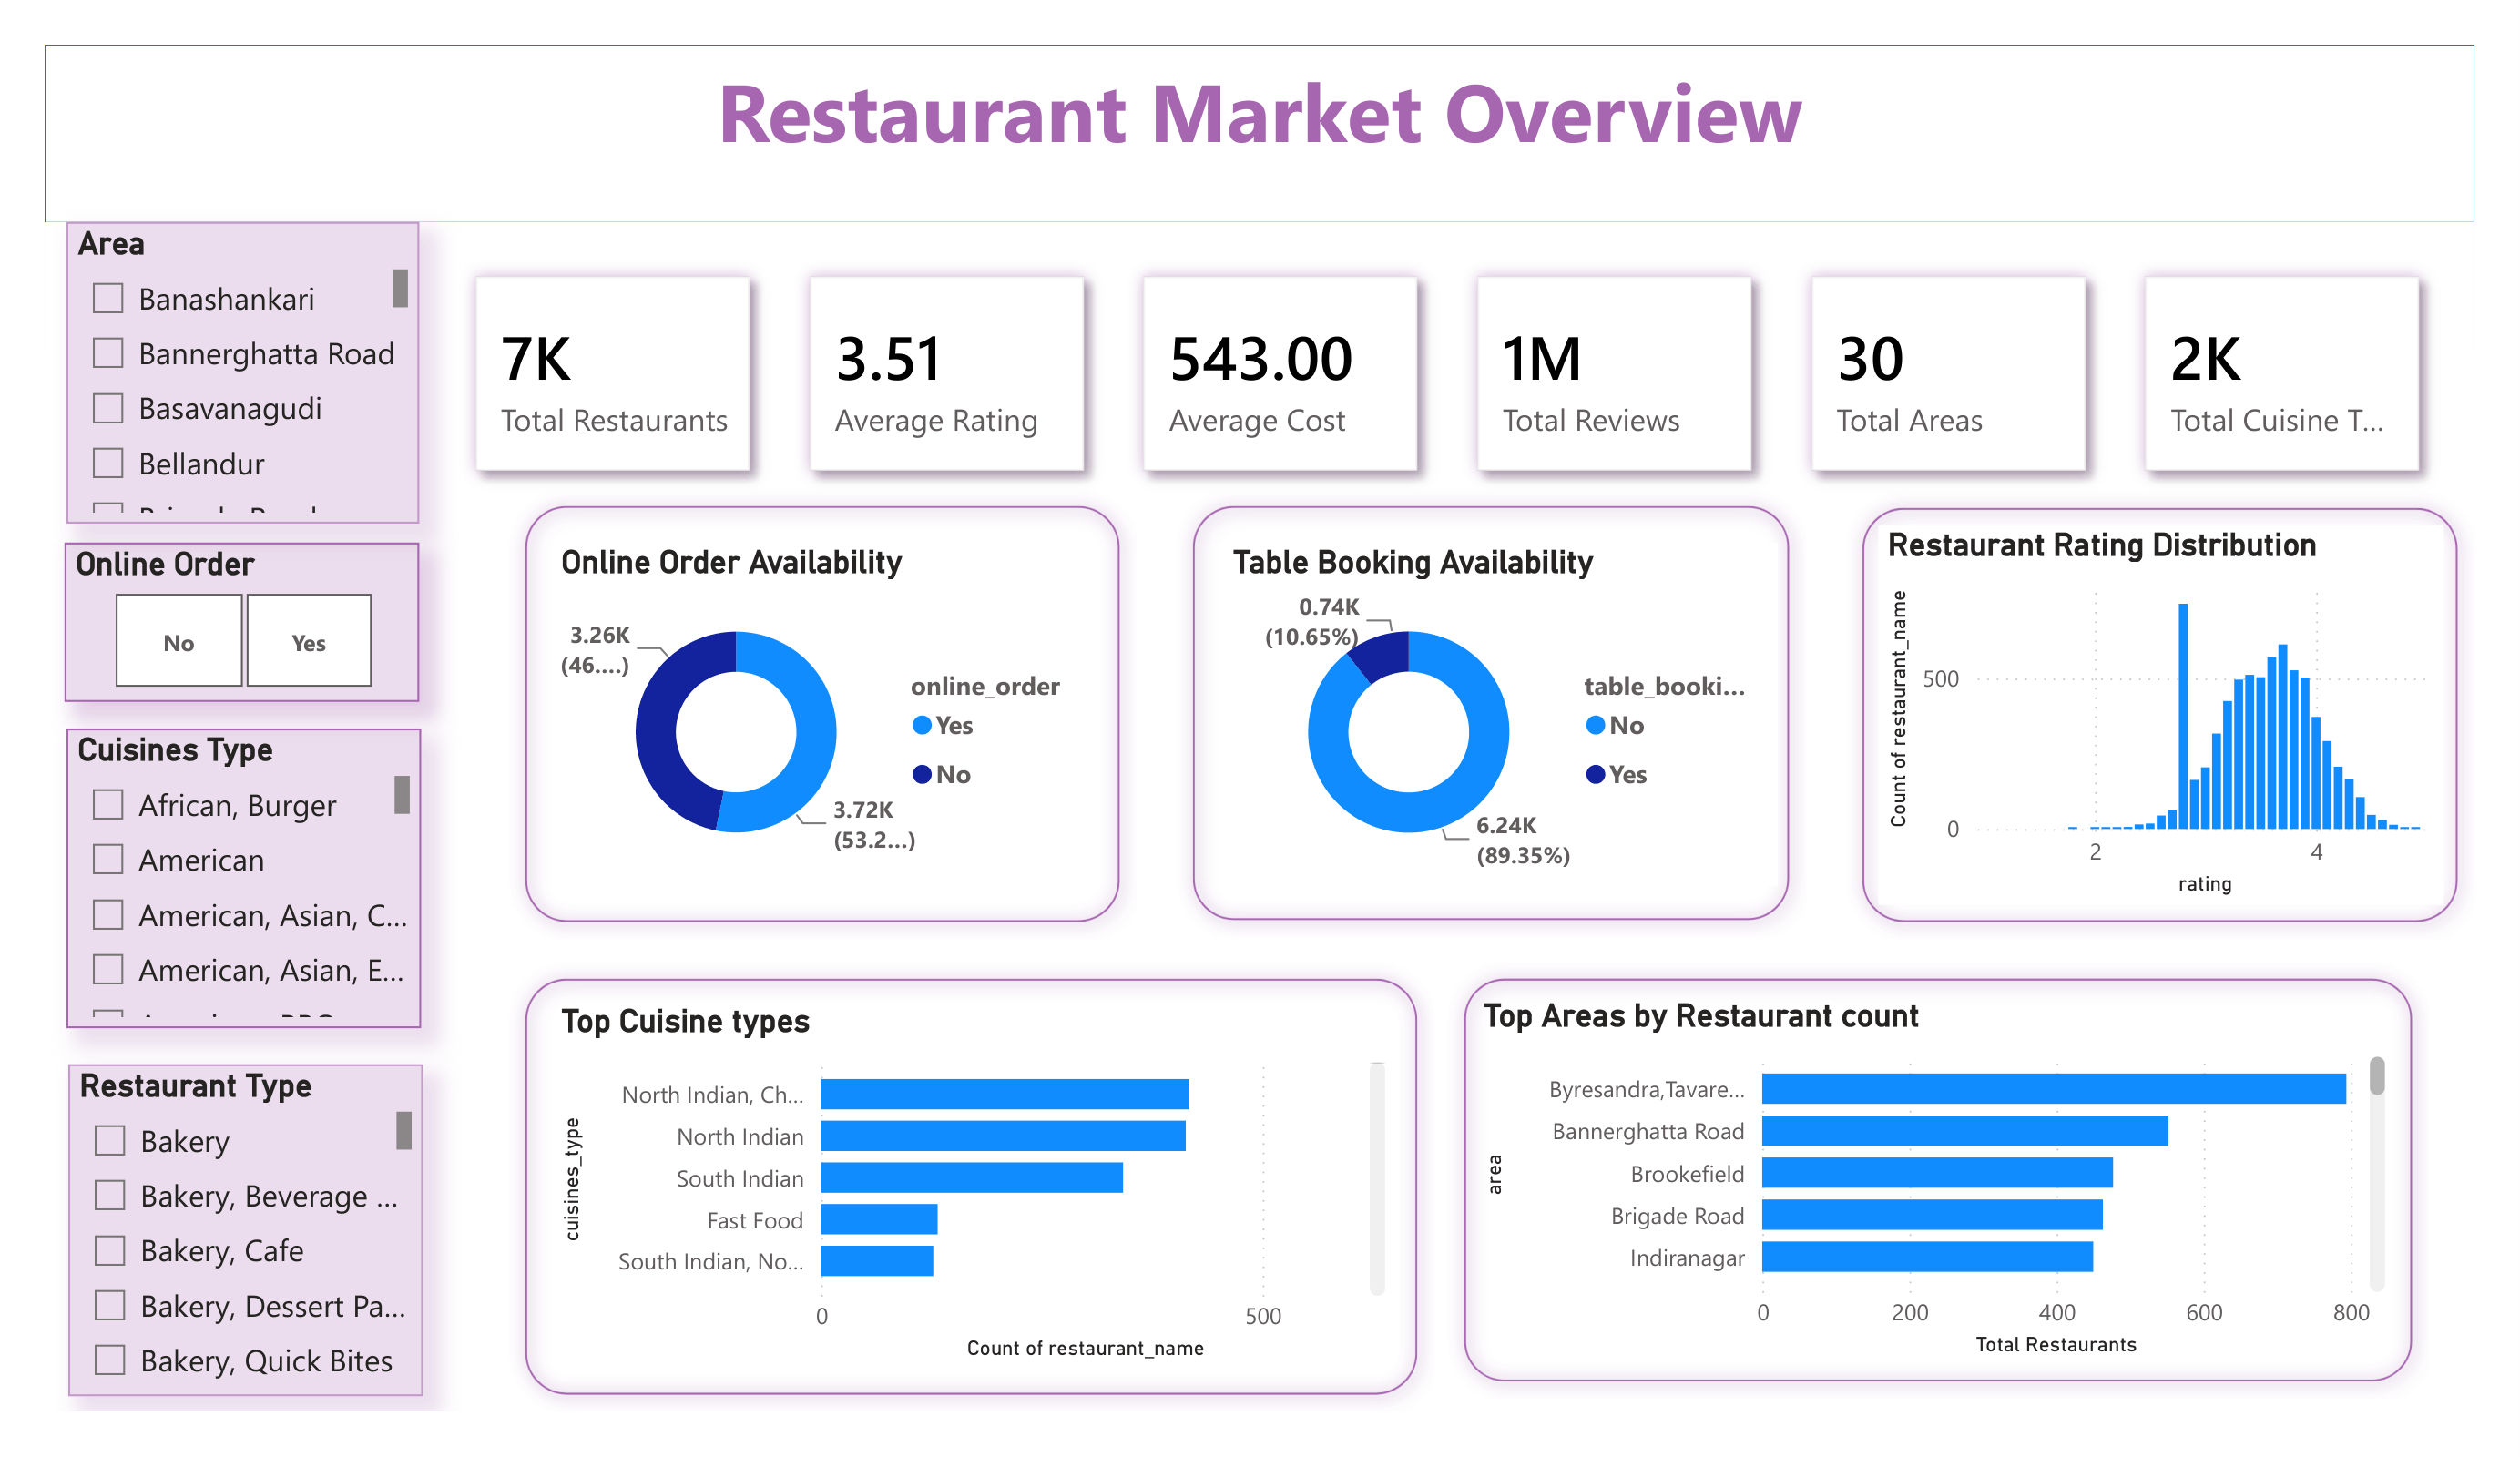

This screenshot's page, from the dashboard's own definition file:
{"tool":"powerbi","page":{"name":"Market Overview","canvas":[1280,720],"ordinal":0},"visuals":[{"type":"cardVisual","fields":{"Data":["public zomato_clean.Total Restaurants","public zomato_clean.Average Rating","public zomato_clean.Average Cost","public zomato_clean.Total Reviews","public zomato_clean.Total Areas","public zomato_clean.Total Cuisine Types"]},"box":[197.5,92.5,1082.5,160],"z":0},{"type":"shape","box":[0,0,1280.3,92.9],"z":1000},{"type":"textbox","box":[0,0,1280.3,92.9],"z":2000},{"type":"clusteredBarChart","title":"Top  Areas by Restaurant count","fields":{"Category":["public zomato_clean.area"],"Y":["public zomato_clean.Total Restaurants"]},"box":[753.3,500.8,484.2,195],"z":3000},{"type":"clusteredBarChart","title":"Top  Cuisine types","fields":{"Category":["public zomato_clean.cuisines_type"],"Y":["CountNonNull(public zomato_clean.restaurant_name)"]},"box":[266.7,504.2,444.2,194.2],"z":4000},{"type":"shape","box":[244.2,234.2,330.8,236.7],"z":5000},{"type":"shape","box":[595.8,234.2,331.7,235.8],"z":6000},{"type":"shape","box":[949.2,235,330.8,235.8],"z":7000},{"type":"shape","box":[739.2,483.3,516.7,229.2],"z":8000},{"type":"shape","box":[244.2,483.3,487.5,236.7],"z":9000},{"type":"donutChart","title":"Online Order Availability","fields":{"Category":["public zomato_clean.online_order"],"Y":["CountNonNull(public zomato_clean.restaurant_name)"]},"box":[266.7,261.7,286.7,181.7],"z":10000},{"type":"donutChart","title":"Table Booking Availability","fields":{"Category":["public zomato_clean.table_booking"],"Y":["CountNonNull(public zomato_clean.restaurant_name)"]},"box":[620.8,261.7,291.7,181.7],"z":11000},{"type":"clusteredColumnChart","title":"Restaurant Rating Distribution","fields":{"Category":["public zomato_clean.rating"],"Y":["CountNonNull(public zomato_clean.restaurant_name)"]},"box":[965.8,252.5,298.3,200],"z":12000},{"type":"slicer","title":"Area","fields":{"Values":["public zomato_clean.area"]},"box":[11,92.9,185.9,159],"z":13000},{"type":"slicer","title":"Cuisines Type","fields":{"Values":["public zomato_clean.cuisines_type"]},"box":[11,359.5,187.1,159],"z":14000},{"type":"slicer","title":"Restaurant Type","fields":{"Values":["public zomato_clean.restaurant_type"]},"box":[12.2,536.8,187.1,174.9],"z":15000},{"type":"slicer","title":"Online Order","fields":{"Values":["public zomato_clean.online_order"]},"box":[9.8,261.7,187.1,84.4],"z":16000}]}

Visuals, with their boxes on the page's 1280x720 design canvas (x1, y1, x2, y2). These are canvas units, not pixel positions in the 2520x1457 screenshot, which may show the page scaled, cropped or inside an application window:
cardVisual - public zomato_clean.Total Restaurants x public zomato_clean.Average Rating: left=198, top=92, right=1280, bottom=252
shape: left=0, top=0, right=1280, bottom=93
textbox: left=0, top=0, right=1280, bottom=93
"Top  Areas by Restaurant count" clusteredBarChart: left=753, top=501, right=1238, bottom=696
"Top  Cuisine types" clusteredBarChart: left=267, top=504, right=711, bottom=698
shape: left=244, top=234, right=575, bottom=471
shape: left=596, top=234, right=928, bottom=470
shape: left=949, top=235, right=1280, bottom=471
shape: left=739, top=483, right=1256, bottom=712
shape: left=244, top=483, right=732, bottom=720
"Online Order Availability" donutChart: left=267, top=262, right=553, bottom=443
"Table Booking Availability" donutChart: left=621, top=262, right=912, bottom=443
"Restaurant Rating Distribution" clusteredColumnChart: left=966, top=252, right=1264, bottom=452
"Area" slicer: left=11, top=93, right=197, bottom=252
"Cuisines Type" slicer: left=11, top=360, right=198, bottom=518
"Restaurant Type" slicer: left=12, top=537, right=199, bottom=712
"Online Order" slicer: left=10, top=262, right=197, bottom=346
